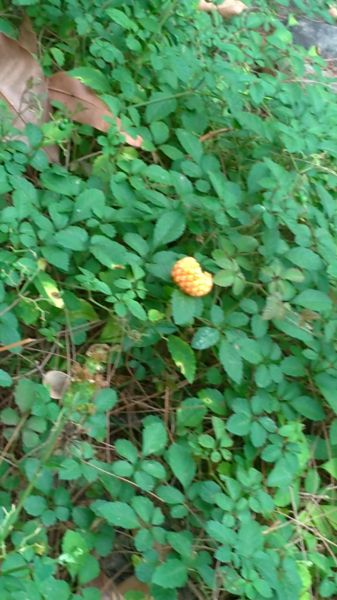eggs: (168, 252, 215, 300)
